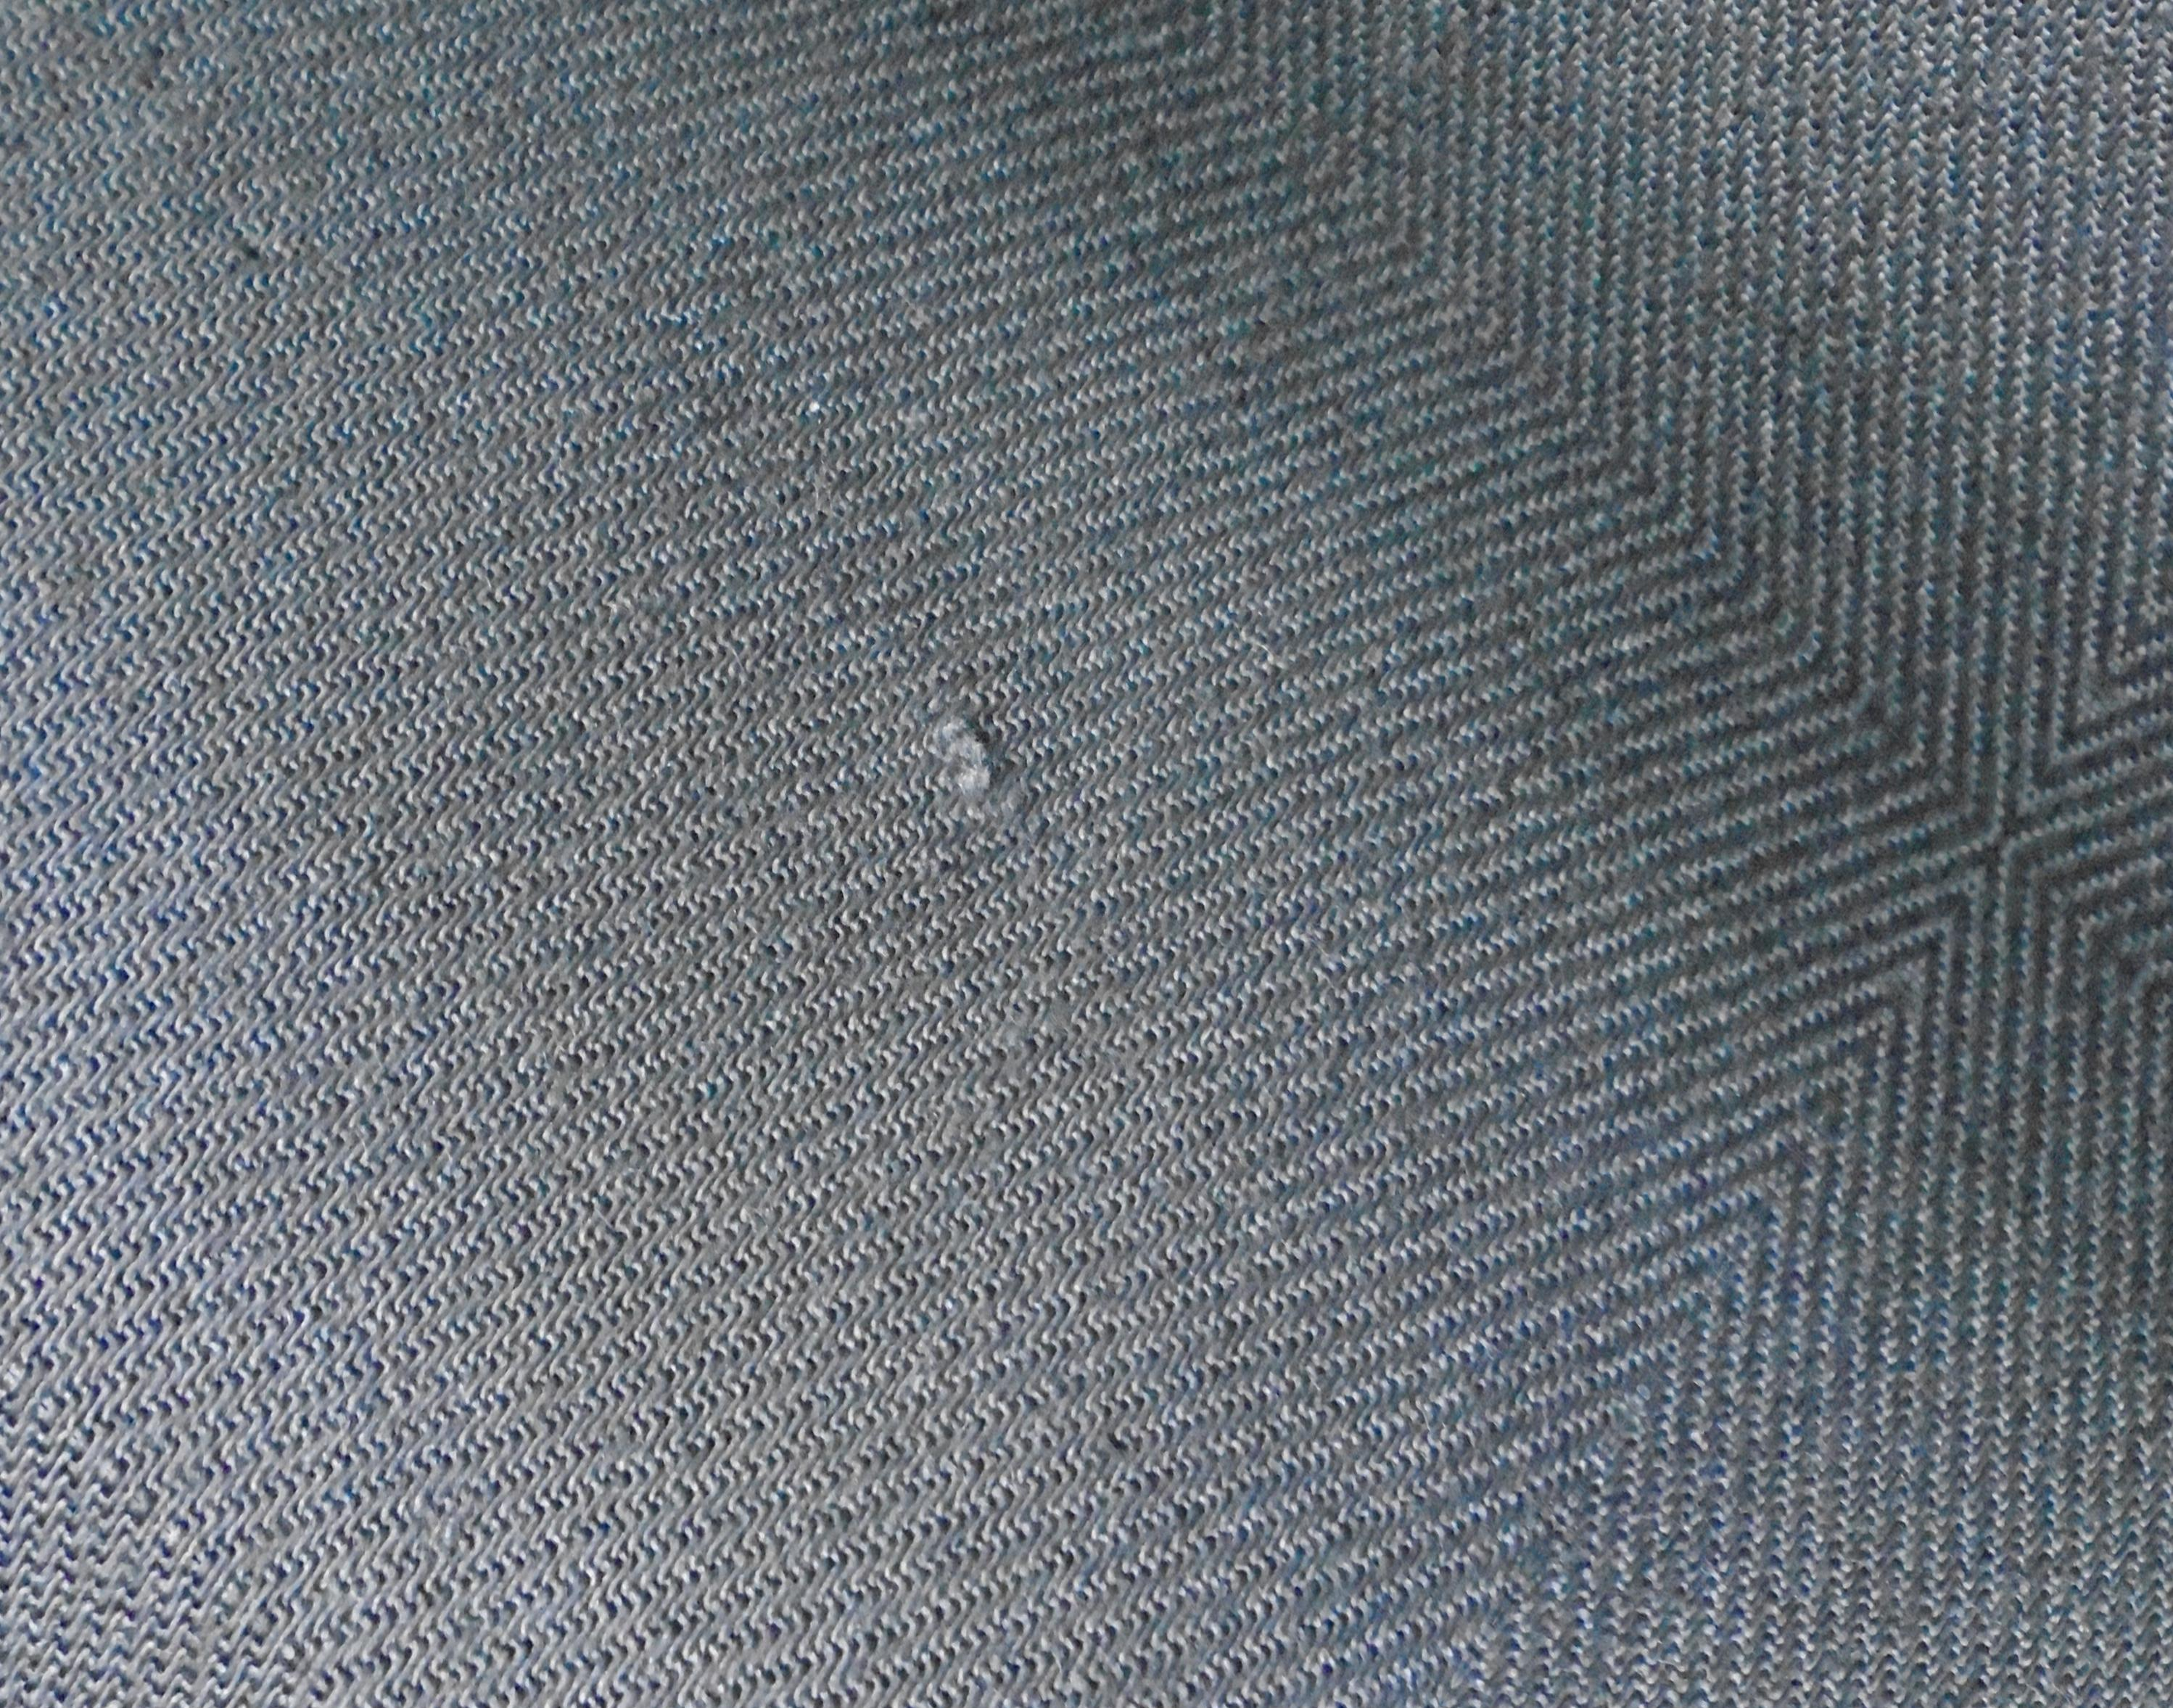knot: (896, 693, 1079, 847)
